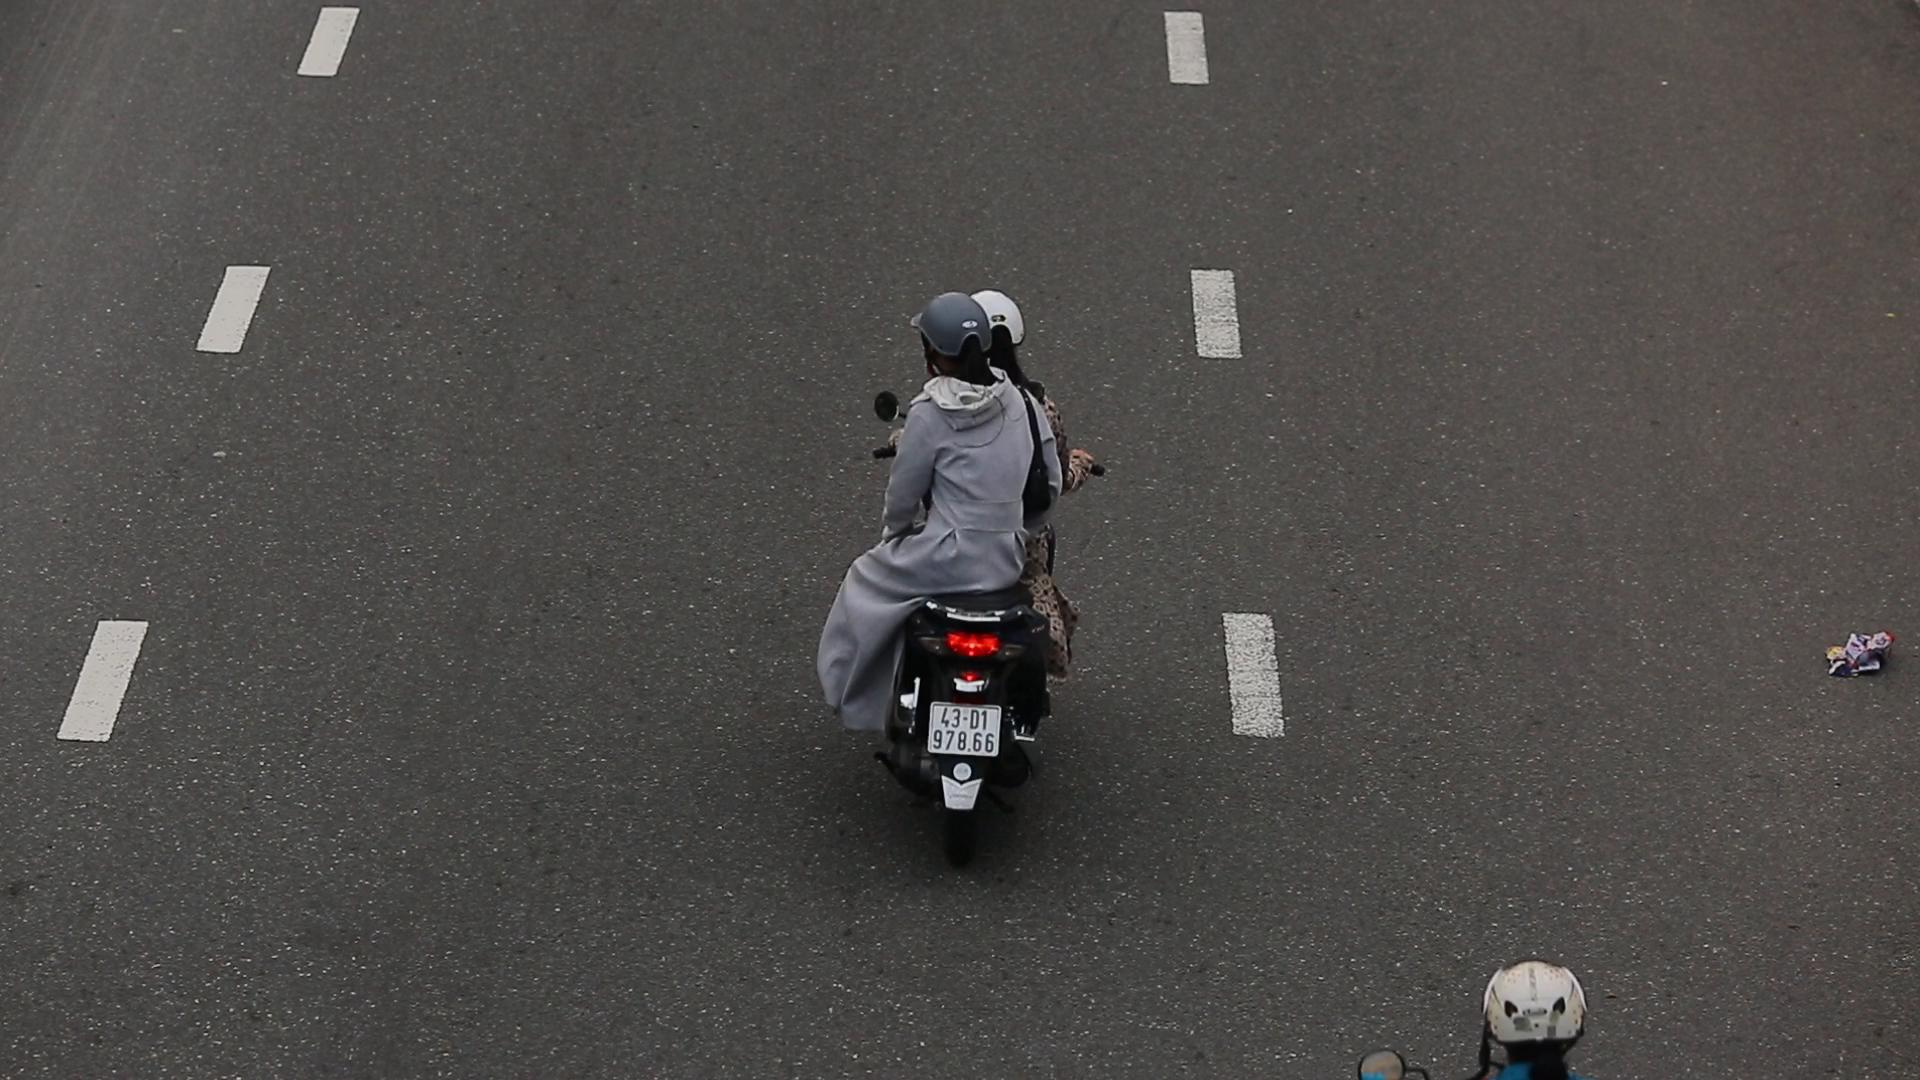motobike: (795, 260, 1127, 890)
